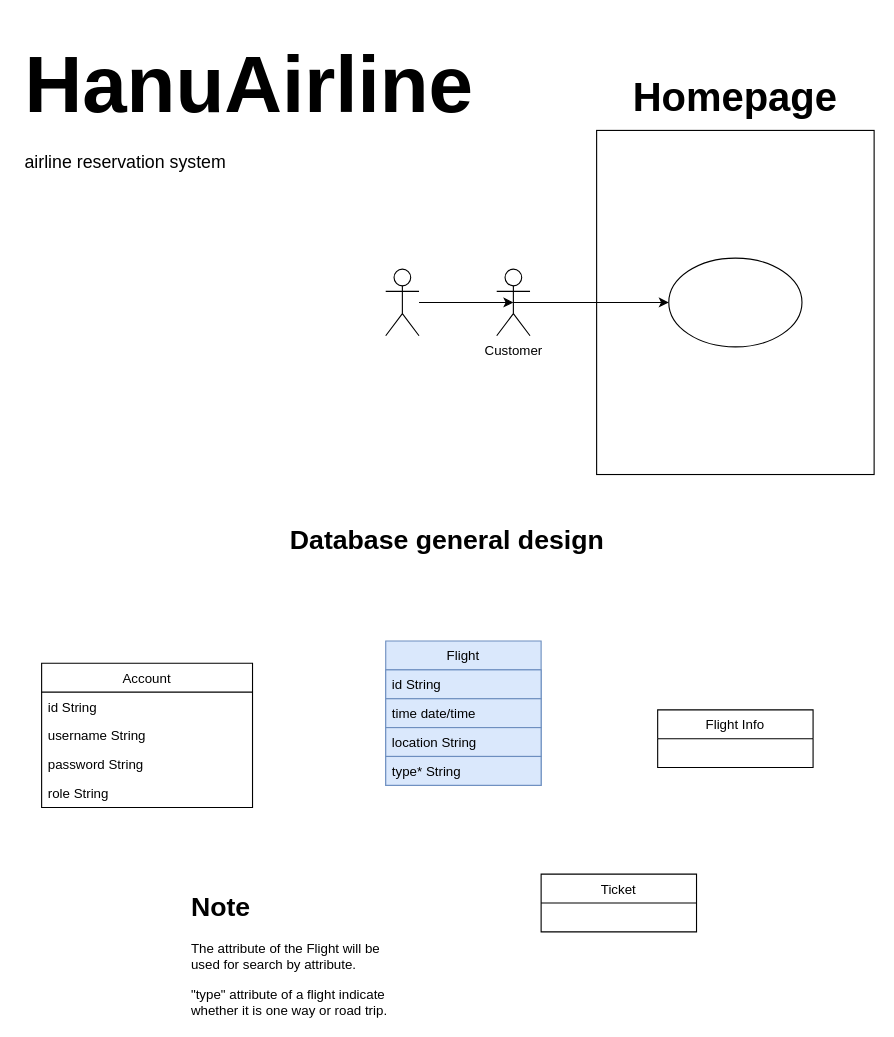
This 894x1037 diagram has some shape labels left out. The shapes that lost their labels are listed below. From the top down, each one's centre as x and y in pixels, then its label:
At (402,302): "Admin".
At (735,302): "View all flights".
